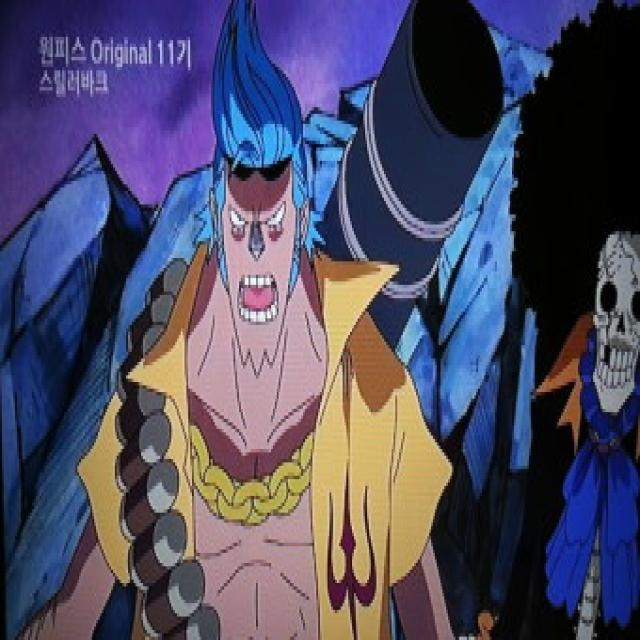Blook: (534, 0, 640, 436)
Franky: (205, 0, 304, 382)
